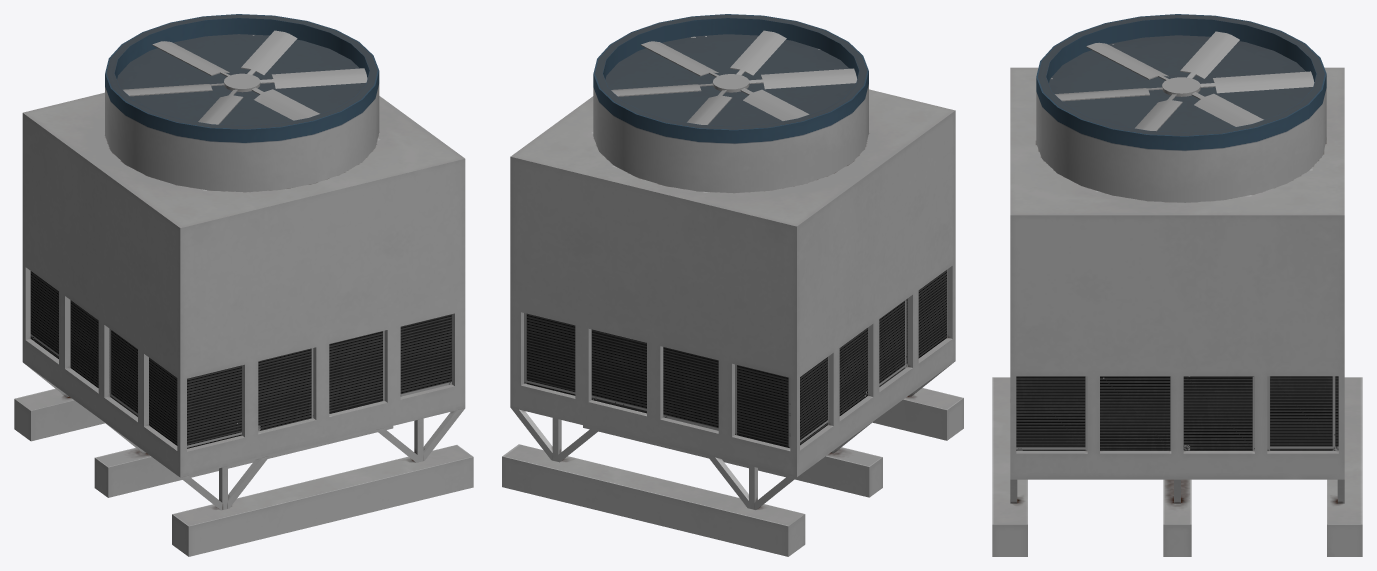
File: LenQueTa.fbx
The picture shows the model from 3 angles, left to right: view 1: azimuth 30°, elevation 25°; view 2: azimuth 150°, elevation 25°; view 3: azimuth 270°, elevation 25°; orthographic projection. The views are drawn at different scales.
Parts seen in each view (by area): view 1: LenQueTa_TaShen, LenQueTa_ShanYe; view 2: LenQueTa_TaShen, LenQueTa_ShanYe; view 3: LenQueTa_TaShen, LenQueTa_ShanYe.
Boxes of the visible parts, box(x1,y1,x2,y2) form: LenQueTa_TaShen: box(14, 14, 473, 556); LenQueTa_ShanYe: box(123, 30, 367, 124); LenQueTa_TaShen: box(502, 14, 963, 556); LenQueTa_ShanYe: box(611, 30, 856, 124); LenQueTa_TaShen: box(992, 14, 1362, 556); LenQueTa_ShanYe: box(1055, 31, 1314, 131).
Size of the model in its own units: 836 by 1079 by 887.
1 material, 1 textured.
